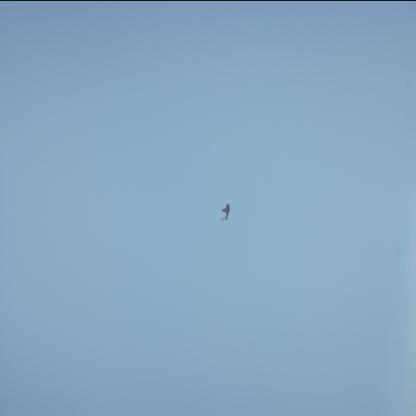aircraft: (220, 204, 232, 220)
